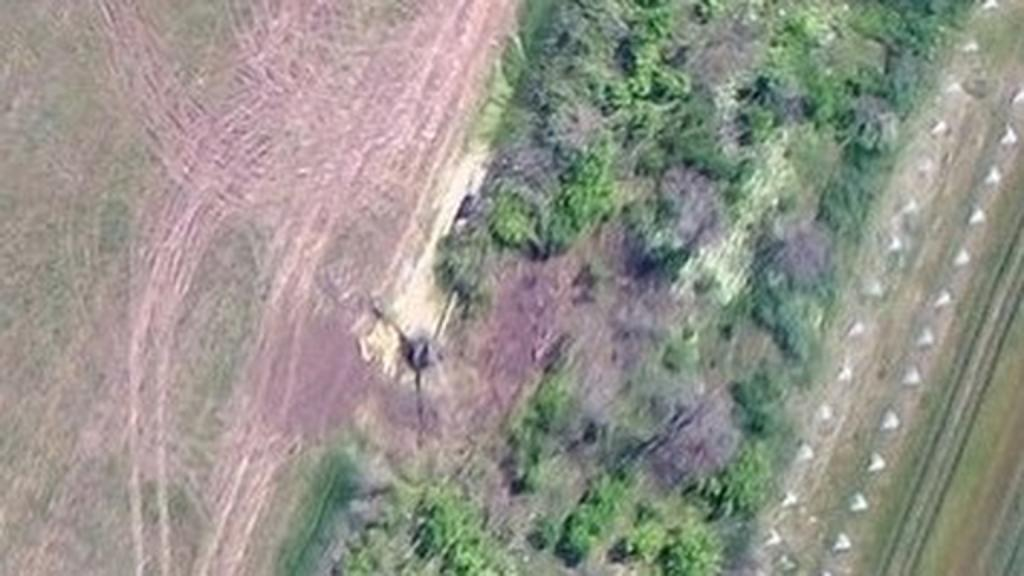ART: (370, 288, 460, 450)
